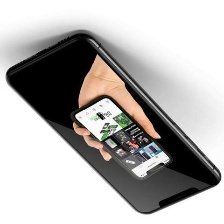phone: (3, 26, 222, 217)
